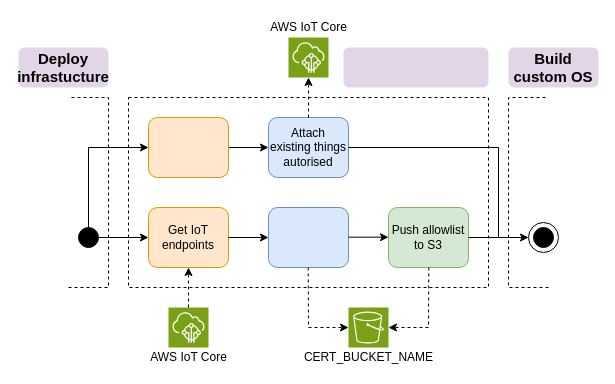
Image size: 615x384. Some labels were removed from this diagram. The shapes that lost their labels are listed below. From the top down, each one's box as (x1, y1, x2, y2) in pixels, then its label:
(343, 47, 488, 87): Setup provisioning
(148, 116, 228, 178): Check allowlist
(268, 206, 348, 268): Set configuration file an push to S3
